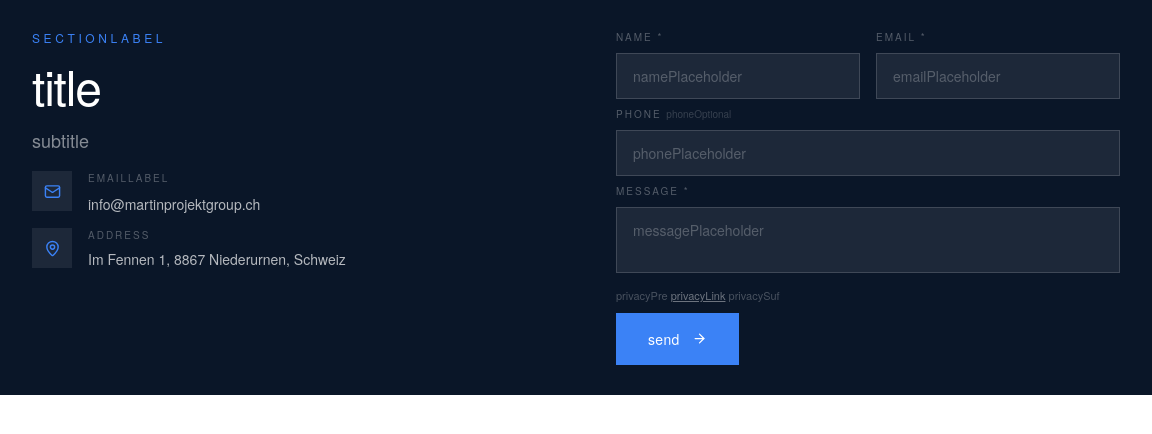
Test: ContactSection › shows email error on blur with invalid email
In the field with placeholder "emailPlaceholder": [998, 76] box [876,53,1120,99], type "notvalid"
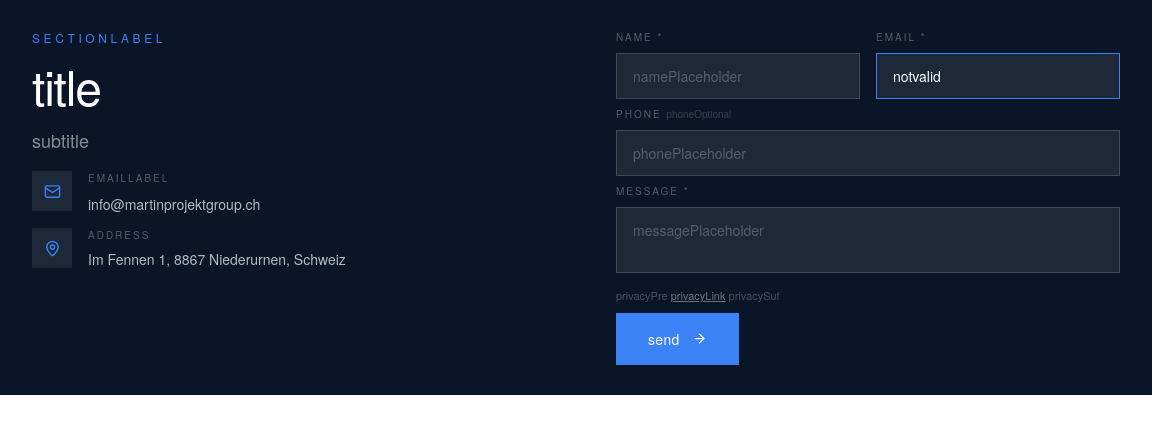
Leave the field with placeholder "emailPlaceholder", box [876,53,1120,99]
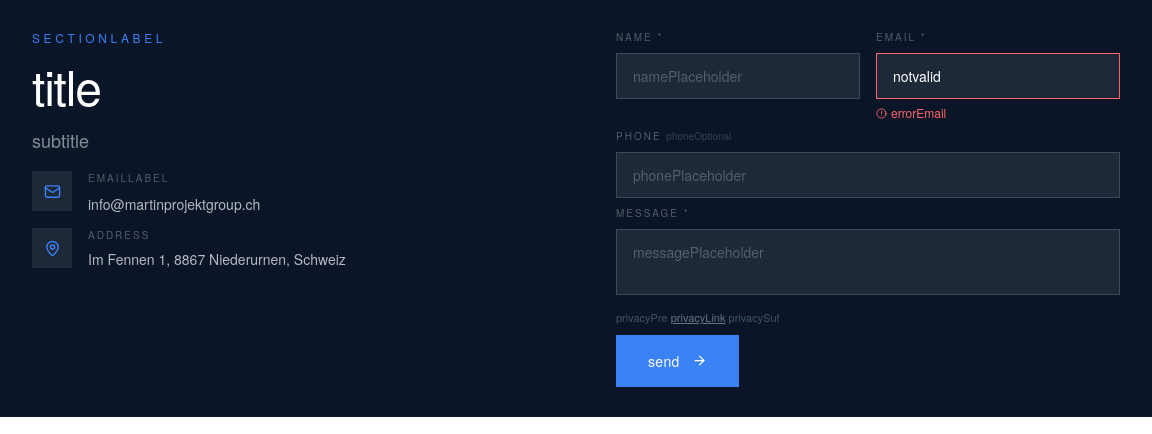
Now the text "errorEmail" is shown, box [876,104,946,121]
